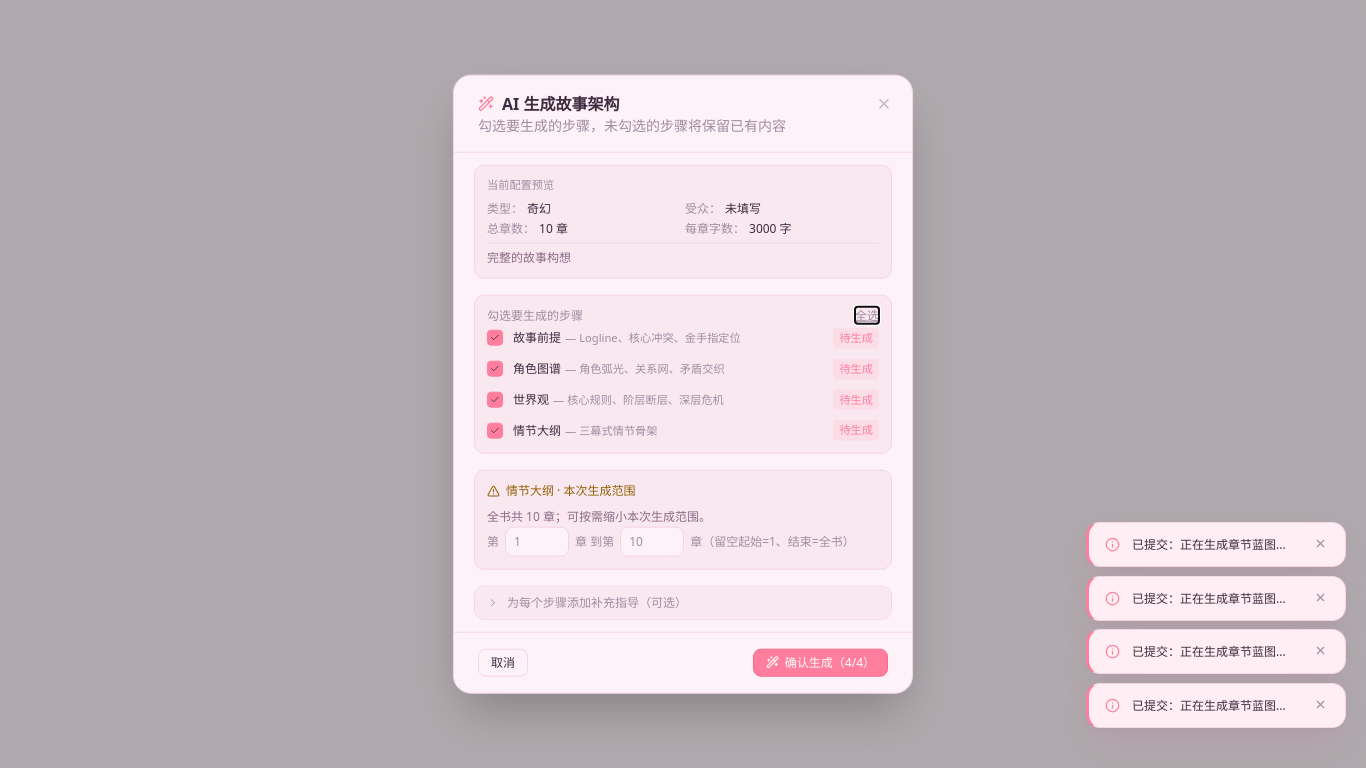
Test case: workflow launch dialogs › keeps architecture confirmation open and reports launcher rejection
What coordinates should you click on to do the following:
click the button "确认生成（4/4）"
I would click on:
 (820, 662)
Its box is [753,648,888,676].
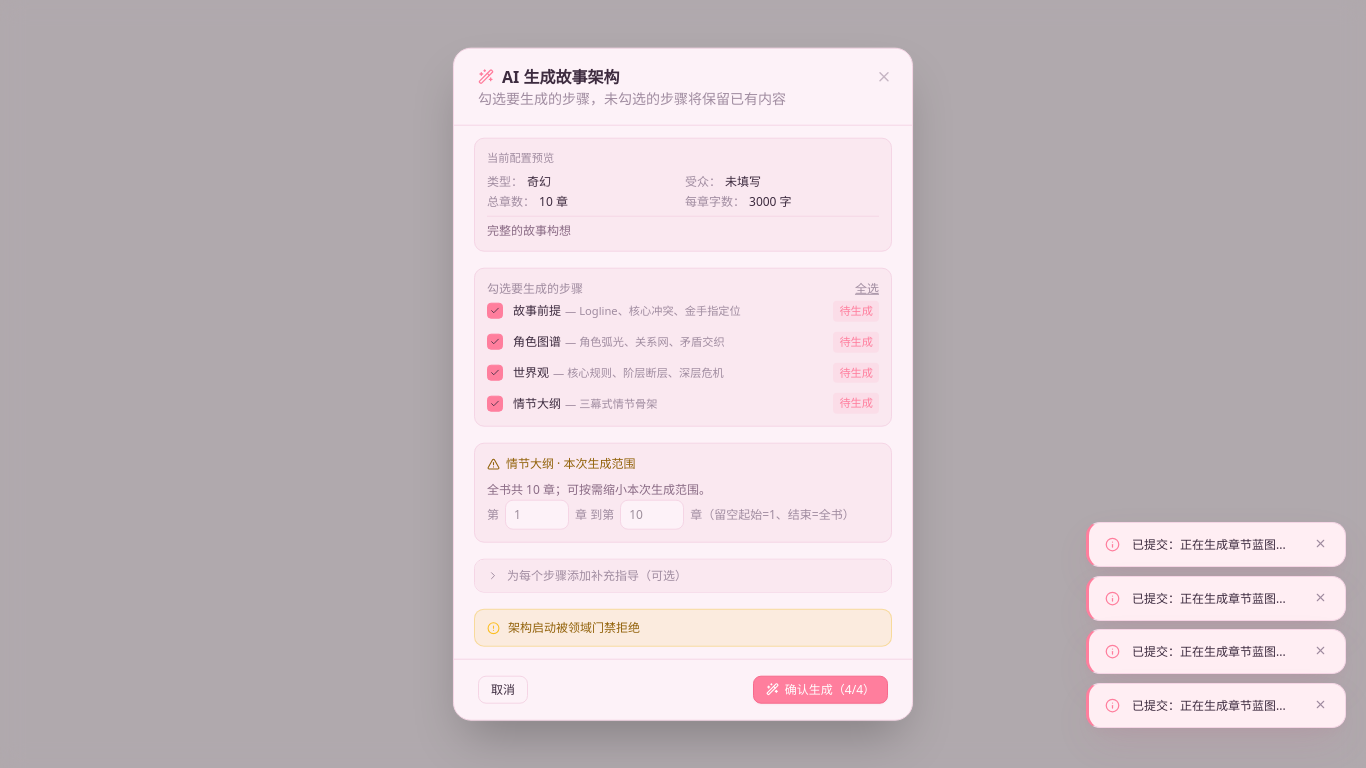
Check: the dialog is shown, box [453,48,913,720]
Check: the text "架构启动被领域门禁拒绝" is shown, box [508,619,640,635]
